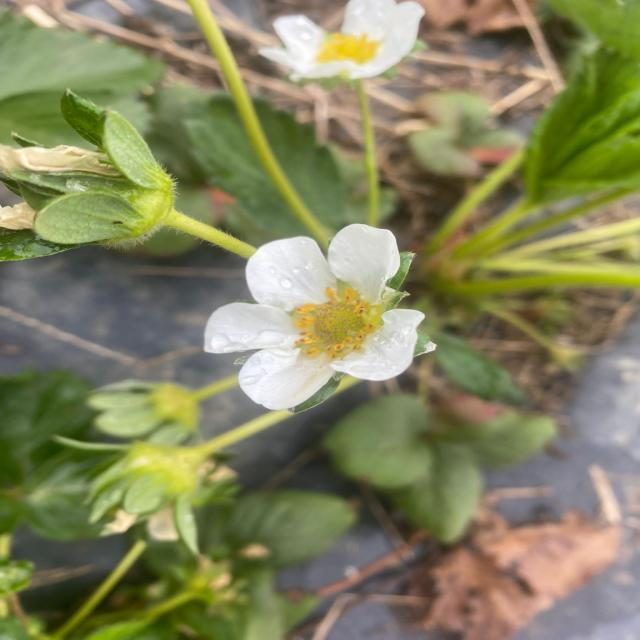flower: (202, 226, 418, 416), (264, 0, 422, 81)
